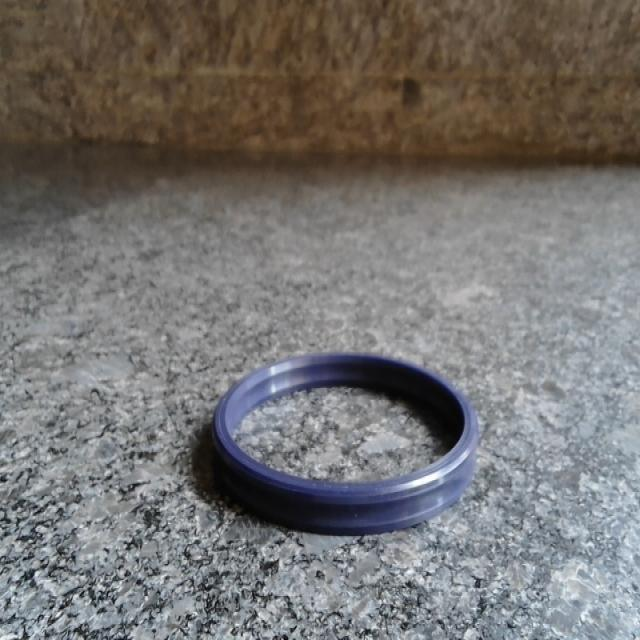purple-ring: (214, 353, 479, 535)
